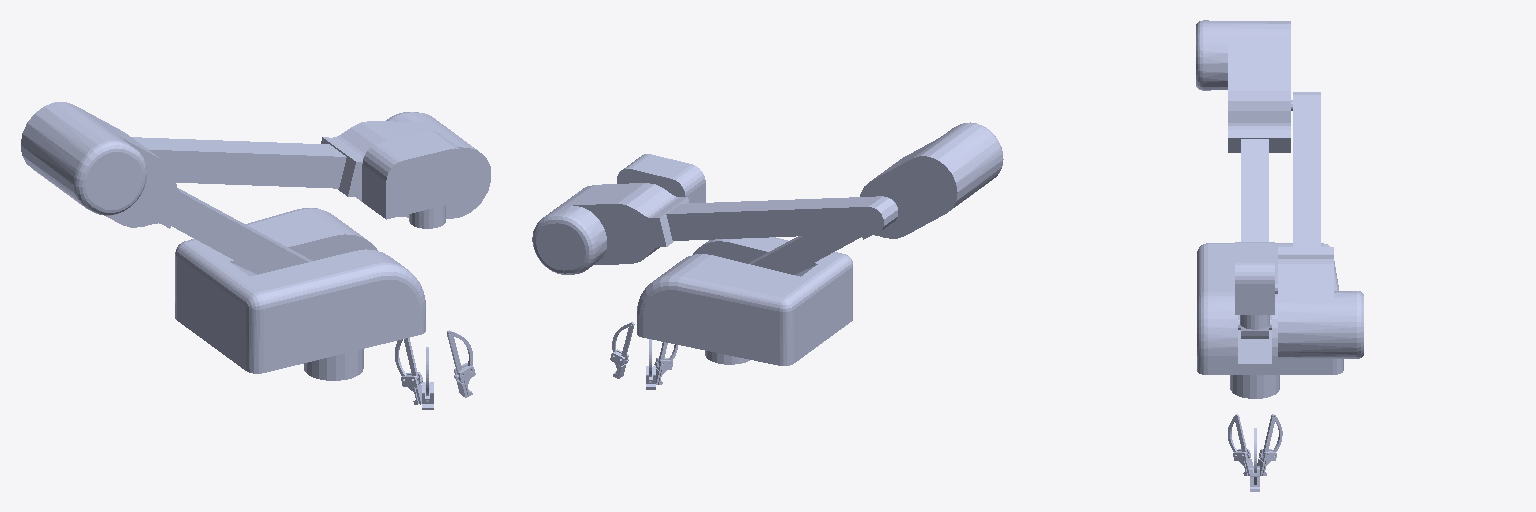
The robot description file, URDF, robot "pipoudou":
<?xml version="1.0" encoding="utf-8" ?>
<!-- This URDF was automatically created by SolidWorks to URDF Exporter! Originally created by [author] ([email redacted]) 
     Commit Version: 1.6.0-4-g7f85cfe  Build Version: 1.6.7995.38578
     For more information, please see http://wiki.ros.org/sw_urdf_exporter -->
<robot name="pipoudou">
    <link name="base_link">
        <!-- <inertial>
            <origin xyz="-0.00589404771376543 -0.172216921474908 0.0957187730055203" rpy="0 0 0" />
            <mass value="10.9085561099122" />
            <inertia ixx="0.0835006955896213" ixy="-0.000486302956665482" ixz="-1.68830866381301E-05" iyy="0.0780175982250961" iyz="-0.000372207979748105" izz="0.144629915038495" />
        </inertial> -->
        <visual>
            <origin xyz="0 0 0" rpy="0 0 0" />
            <geometry>
                <mesh filename="package://pipoudou/meshes/base_link.STL" />
            </geometry>
            <material name="">
                <color rgba="0.792156862745098 0.819607843137255 0.933333333333333 1" />
            </material>
        </visual>
        <collision>
            <origin xyz="0 0 0" rpy="0 0 0" />
            <geometry>
                <mesh filename="package://pipoudou/meshes/base_link.STL" />
            </geometry>
        </collision>
        <inertial>
            <mass value="0.1" />
            <origin xyz="0 0 0" rpy="0 0 0" />
            <inertia ixx="0.03" iyy="0.03" izz="0.03" ixy="0.0" ixz="0.0" iyz="0.0" />
        </inertial>
    </link>
    <link name="Joint_Link_1">
        <inertial>
            <origin xyz="-0.0419354714749062 0.0571907967511279 -0.0194583189020789" rpy="0 0 0" />
            <mass value="4.05461553371115" />
            <inertia ixx="0.0186674836378778" ixy="0.00144429847151249" ixz="0.000894000961160699" iyy="0.0327190095637458" iyz="0.000447725667688059" izz="0.0226784769639849" />
        </inertial>
        <visual>
            <origin xyz="0 0 0" rpy="0 0 0" />
            <geometry>
                <mesh filename="package://pipoudou/meshes/Joint_Link_1.STL" />
            </geometry>
            <material name="">
                <color rgba="0.792156862745098 0.819607843137255 0.933333333333333 1" />
            </material>
        </visual>
        <collision>
            <origin xyz="0 0 0" rpy="0 0 0" />
            <geometry>
                <mesh filename="package://pipoudou/meshes/Joint_Link_1.STL" />
            </geometry>
        </collision>
    </link>
    <joint name="Joint_Link_1" type="continuous">
        <origin xyz="0 0 0.126" rpy="1.5708 0 0" />
        <parent link="base_link" />
        <child link="Joint_Link_1" />
        <axis xyz="0 1 0" />
        <limit lower="-3.05433" upper="2.74017" effort="0" velocity="0" />
    </joint>
    <link name="Joint_Link_2">
        <inertial>
            <origin xyz="-0.00530103912834451 -0.267556363757934 -0.201059920551774" rpy="0 0 0" />
            <mass value="2.14091331405897" />
            <inertia ixx="0.0351900118557783" ixy="-0.00115816661681989" ixz="-0.000870324597093157" iyy="0.0151835424012374" iyz="-0.0159425460381403" izz="0.0244184526983205" />
        </inertial>
        <visual>
            <origin xyz="0 0 0" rpy="0 0 0" />
            <geometry>
                <mesh filename="package://pipoudou/meshes/Joint_Link_2.STL" />
            </geometry>
            <material name="">
                <color rgba="0.792156862745098 0.819607843137255 0.933333333333333 1" />
            </material>
        </visual>
        <collision>
            <origin xyz="0 0 0" rpy="0 0 0" />
            <geometry>
                <mesh filename="package://pipoudou/meshes/Joint_Link_2.STL" />
            </geometry>
        </collision>
    </link>
    <joint name="Joint_Link_2" type="continuous">
        <origin xyz="-0.0015 0.0542 0" rpy="1.5707963267949 1.5707963267949 0" />
        <parent link="Joint_Link_1" />
        <child link="Joint_Link_2" />
        <axis xyz="1 0 0" />
        <limit lower="-0.174533" upper="2.70526" effort="0" velocity="0" />
    </joint>
    <link name="Joint_Link_3">
        <inertial>
            <origin xyz="0.00781705470548592 -0.352845842017961 -0.094791262080411" rpy="0 0 0" />
            <mass value="2.05117896930323" />
            <inertia ixx="0.0447591316884685" ixy="0.00202554005626431" ixz="0.000544156896478173" iyy="0.00549957380946362" iyz="-0.0107586884747149" izz="0.042656832970381" />
        </inertial>
        <visual>
            <origin xyz="0 0 0" rpy="0 0 0" />
            <geometry>
                <mesh filename="package://pipoudou/meshes/Joint_Link_3.STL" />
            </geometry>
            <material name="">
                <color rgba="0.792156862745098 0.819607843137255 0.933333333333333 1" />
            </material>
        </visual>
        <collision>
            <origin xyz="0 0 0" rpy="0 0 0" />
            <geometry>
                <mesh filename="package://pipoudou/meshes/Joint_Link_3.STL" />
            </geometry>
        </collision>
    </link>
    <joint name="Joint_Link_3" type="continuous">
        <origin xyz="0.0729999976962511 -0.279802779166052 -0.21026270498443" rpy="-3.14159265358979 0 0" />
        <parent link="Joint_Link_2" />
        <child link="Joint_Link_3" />
        <axis xyz="1 0 0" />
        <limit lower="-2.79253" upper="0.0174533" effort="0" velocity="0" />
    </joint>
    <link name="Joint_Link_4">
        <inertial>
            <origin xyz="-0.00128145900425441 -0.00643282828050407 -0.0156990390541649" rpy="0 0 0" />
            <mass value="0.479895774970971" />
            <inertia ixx="0.000704597872477017" ixy="3.95597557777906E-06" ixz="9.65438721271254E-06" iyy="0.000430271991839334" iyz="3.22728443924336E-05" izz="0.000583030081586466" />
        </inertial>
        <visual>
            <origin xyz="0 0 0" rpy="0 0 0" />
            <geometry>
                <mesh filename="package://pipoudou/meshes/Joint_Link_4.STL" />
            </geometry>
            <material name="">
                <color rgba="0.792156862745098 0.819607843137255 0.933333333333333 1" />
            </material>
        </visual>
        <collision>
            <origin xyz="0 0 0" rpy="0 0 0" />
            <geometry>
                <mesh filename="package://pipoudou/meshes/Joint_Link_4.STL" />
            </geometry>
        </collision>
    </link>
    <joint name="Joint_Link_4" type="continuous">
        <origin xyz="-0.0730000000000001 -0.386302779166053 -0.103779394913364" rpy="3.14159265358979 0 3.14159265358979" />
        <parent link="Joint_Link_3" />
        <child link="Joint_Link_4" />
        <axis xyz="1 0 0" />
        <limit lower="-1.58825" upper="1.41372" effort="0" velocity="0" />
    </joint>
    <link name="Hand_Link">
        <inertial>
            <origin xyz="0.003538022414353 0.0934009674500111 0.00572272841520698" rpy="0 0 0" />
            <mass value="0.270355978196213" />
            <inertia ixx="0.000246871496337952" ixy="8.77420170325517E-07" ixz="-2.4101072455635E-07" iyy="0.000198420179541911" iyz="2.18406704397907E-06" izz="0.000248795450899793" />
        </inertial>
        <visual>
            <origin xyz="0 0 0" rpy="0 0 0" />
            <geometry>
                <mesh filename="package://pipoudou/meshes/Hand_Link.STL" />
            </geometry>
            <material name="">
                <color rgba="0.792156862745098 0.819607843137255 0.933333333333333 1" />
            </material>
        </visual>
        <collision>
            <origin xyz="0 0 0" rpy="0 0 0" />
            <geometry>
                <mesh filename="package://pipoudou/meshes/Hand_Link.STL" />
            </geometry>
        </collision>
    </link>
    <joint name="Hand_Link" type="continuous">
        <origin xyz="0 -0.022 0.0279" rpy="1.5707963267949 0 -1.57079632679491" />
        <parent link="Joint_Link_4" />
        <child link="Hand_Link" />
        <axis xyz="0 1 0" />
        <limit lower="-2.0944" upper="2.0944" effort="0" velocity="0" />
    </joint>
    <link name="Finger_link_1">
        <inertial>
            <origin xyz="1.45666936846034E-09 0.0542700697214627 0.00419209902056168" rpy="0 0 0" />
            <mass value="0.00737946646756108" />
            <inertia ixx="1.64260095148187E-06" ixy="3.13372896015046E-14" ixz="9.35831460991248E-15" iyy="3.87683699423791E-07" iyz="3.9770445208839E-08" izz="1.42567240614298E-06" />
        </inertial>
        <visual>
            <origin xyz="0 0 0" rpy="0 0 0" />
            <geometry>
                <mesh filename="package://pipoudou/meshes/Finger_link_1.STL" />
            </geometry>
            <material name="">
                <color rgba="0.792156862745098 0.819607843137255 0.933333333333333 1" />
            </material>
        </visual>
        <collision>
            <origin xyz="0 0 0" rpy="0 0 0" />
            <geometry>
                <mesh filename="package://pipoudou/meshes/Finger_link_1.STL" />
            </geometry>
        </collision>
    </link>
    <joint name="Finger_link_1" type="continuous">
        <origin xyz="-0.015 0.168 0.0259807621135345" rpy="-0.249776778199149 -0.5235987755983 0" />
        <parent link="Hand_Link" />
        <child link="Finger_link_1" />
        <axis xyz="1 0 0" />
        <limit lower="0" upper="1.32645" effort="0" velocity="0" />
    </joint>
    <link name="Finger_link_2">
        <inertial>
            <origin xyz="1.45667027042683E-09 0.0542700697214612 0.00419209902056353" rpy="0 0 0" />
            <mass value="0.00737946646756108" />
            <inertia ixx="1.64260095148187E-06" ixy="3.13372893341082E-14" ixz="9.35831476283802E-15" iyy="3.8768369942379E-07" iyz="3.97704452088391E-08" izz="1.42567240614298E-06" />
        </inertial>
        <visual>
            <origin xyz="0 0 0" rpy="0 0 0" />
            <geometry>
                <mesh filename="package://pipoudou/meshes/Finger_link_2.STL" />
            </geometry>
            <material name="">
                <color rgba="0.792156862745098 0.819607843137255 0.933333333333333 1" />
            </material>
        </visual>
        <collision>
            <origin xyz="0 0 0" rpy="0 0 0" />
            <geometry>
                <mesh filename="package://pipoudou/meshes/Finger_link_2.STL" />
            </geometry>
        </collision>
    </link>
    <joint name="Finger_link_2" type="continuous">
        <origin xyz="0.0300000000000032 0.168000000000006 0" rpy="0.24977677819926 1.5707963267949 0" />
        <parent link="Hand_Link" />
        <child link="Finger_link_2" />
        <axis xyz="1 0 0" />
        <limit lower="0" upper="1.32645" effort="0" velocity="0" />
    </joint>
    <link name="Finger_link_3">
        <inertial>
            <origin xyz="1.46086900909559E-09 0.0542700696800847 0.00419209904821059" rpy="0 0 0" />
            <mass value="0.00737946643540091" />
            <inertia ixx="1.64260095006934E-06" ixy="3.15464630808837E-14" ixz="9.61441978607514E-15" iyy="3.87683698622118E-07" iyz="3.97704458796477E-08" izz="1.42567240579581E-06" />
        </inertial>
        <visual>
            <origin xyz="0 0 0" rpy="0 0 0" />
            <geometry>
                <mesh filename="package://pipoudou/meshes/Finger_link_3.STL" />
            </geometry>
            <material name="">
                <color rgba="0.792156862745098 0.819607843137255 0.933333333333333 1" />
            </material>
        </visual>
        <collision>
            <origin xyz="0 0 0" rpy="0 0 0" />
            <geometry>
                <mesh filename="package://pipoudou/meshes/Finger_link_3.STL" />
            </geometry>
        </collision>
    </link>
    <joint name="Finger_link_3" type="continuous">
        <origin xyz="-0.0149999999999997 0.168000000000001 -0.0259807621135309" rpy="2.89181587539058 -0.523598775598316 3.14159265358979" />
        <parent link="Hand_Link" />
        <child link="Finger_link_3" />
        <axis xyz="1 0 0" />
        <limit lower="0" upper="1.32645" effort="0" velocity="0" />
    </joint>
    <transmission name="trans_Joint_Link_1">
        <type>transmission_interface/SimpleTransmission</type>
        <joint name="Joint_Link_1">
            <hardwareInterface>hardware_interface/EffortJointInterface</hardwareInterface>
        </joint>
        <actuator name="Joint_Link_1_motor">
            <hardwareInterface>hardware_interface/EffortJointInterface</hardwareInterface>
            <mechanicalReduction>1</mechanicalReduction>
        </actuator>
    </transmission>
    <transmission name="trans_Joint_Link_2">
        <type>transmission_interface/SimpleTransmission</type>
        <joint name="Joint_Link_2">
            <hardwareInterface>hardware_interface/EffortJointInterface</hardwareInterface>
        </joint>
        <actuator name="Joint_Link_2_motor">
            <hardwareInterface>hardware_interface/EffortJointInterface</hardwareInterface>
            <mechanicalReduction>1</mechanicalReduction>
        </actuator>
    </transmission>
    <transmission name="trans_Joint_Link_3">
        <type>transmission_interface/SimpleTransmission</type>
        <joint name="Joint_Link_3">
            <hardwareInterface>hardware_interface/EffortJointInterface</hardwareInterface>
        </joint>
        <actuator name="Joint_Link_3_motor">
            <hardwareInterface>hardware_interface/EffortJointInterface</hardwareInterface>
            <mechanicalReduction>1</mechanicalReduction>
        </actuator>
    </transmission>
    <transmission name="trans_Joint_Link_4">
        <type>transmission_interface/SimpleTransmission</type>
        <joint name="Joint_Link_4">
            <hardwareInterface>hardware_interface/EffortJointInterface</hardwareInterface>
        </joint>
        <actuator name="Joint_Link_4_motor">
            <hardwareInterface>hardware_interface/EffortJointInterface</hardwareInterface>
            <mechanicalReduction>1</mechanicalReduction>
        </actuator>
    </transmission>
    <transmission name="trans_Hand_Link">
        <type>transmission_interface/SimpleTransmission</type>
        <joint name="Hand_Link">
            <hardwareInterface>hardware_interface/EffortJointInterface</hardwareInterface>
        </joint>
        <actuator name="Hand_Link_motor">
            <hardwareInterface>hardware_interface/EffortJointInterface</hardwareInterface>
            <mechanicalReduction>1</mechanicalReduction>
        </actuator>
    </transmission>
    <transmission name="trans_Finger_link_1">
        <type>transmission_interface/SimpleTransmission</type>
        <joint name="Finger_link_1">
            <hardwareInterface>hardware_interface/EffortJointInterface</hardwareInterface>
        </joint>
        <actuator name="Finger_link_1_motor">
            <hardwareInterface>hardware_interface/EffortJointInterface</hardwareInterface>
            <mechanicalReduction>1</mechanicalReduction>
        </actuator>
    </transmission>
    <transmission name="trans_Finger_link_2">
        <type>transmission_interface/SimpleTransmission</type>
        <joint name="Finger_link_2">
            <hardwareInterface>hardware_interface/EffortJointInterface</hardwareInterface>
        </joint>
        <actuator name="Finger_link_2_motor">
            <hardwareInterface>hardware_interface/EffortJointInterface</hardwareInterface>
            <mechanicalReduction>1</mechanicalReduction>
        </actuator>
    </transmission>
    <transmission name="trans_Finger_link_3">
        <type>transmission_interface/SimpleTransmission</type>
        <joint name="Finger_link_3">
            <hardwareInterface>hardware_interface/EffortJointInterface</hardwareInterface>
        </joint>
        <actuator name="Finger_link_3_motor">
            <hardwareInterface>hardware_interface/EffortJointInterface</hardwareInterface>
            <mechanicalReduction>1</mechanicalReduction>
        </actuator>
    </transmission>
    <gazebo>
        <plugin name="gazebo_ros_control">
            <robotNamespace>/</robotNamespace>
        </plugin>
    </gazebo>
</robot>

--- Facts derived from the render (not from the file) ---
3 views of the same robot in one strip: view 1: azimuth 30°, elevation 25°; view 2: azimuth 150°, elevation 25°; view 3: azimuth 270°, elevation 25° (orthographic).
Robot: pipoudou — 9 links, 8 joints (8 continuous); root link base_link; default pose: all joints at 0.
Links seen in each view (by area): view 1: Joint_Link_1, Joint_Link_2, Joint_Link_3, Joint_Link_4, Finger_link_2, Finger_link_1; view 2: Joint_Link_1, Joint_Link_3, Joint_Link_2, Joint_Link_4, Finger_link_2; view 3: Joint_Link_2, Joint_Link_3, Joint_Link_1, Joint_Link_4, Finger_link_1, Finger_link_3.
Link boxes in pixels (x1=…): Joint_Link_1: x1=175, y1=208, x2=425, y2=380; Joint_Link_2: x1=21, y1=102, x2=311, y2=273; Joint_Link_3: x1=132, y1=112, x2=490, y2=218; Joint_Link_4: x1=362, y1=131, x2=467, y2=228; Finger_link_2: x1=447, y1=330, x2=475, y2=397; Finger_link_1: x1=395, y1=338, x2=422, y2=404; Joint_Link_1: x1=637, y1=237, x2=852, y2=365; Joint_Link_3: x1=532, y1=183, x2=897, y2=274; Joint_Link_2: x1=748, y1=122, x2=1003, y2=274; Joint_Link_4: x1=617, y1=154, x2=705, y2=202; Finger_link_2: x1=610, y1=322, x2=634, y2=378; Joint_Link_2: x1=1196, y1=20, x2=1290, y2=338; Joint_Link_3: x1=1278, y1=92, x2=1363, y2=358; Joint_Link_1: x1=1197, y1=243, x2=1343, y2=398; Joint_Link_4: x1=1235, y1=242, x2=1277, y2=329; Finger_link_1: x1=1257, y1=414, x2=1282, y2=475; Finger_link_3: x1=1228, y1=414, x2=1253, y2=475.
Size in the robot's own frame: 0.6262 by 0.238 by 0.4815 metres.
7 mesh visuals loaded from 9 distinct referenced files (7 binary STL); not drawn: 2 (reference not matched to a file when rendering).
